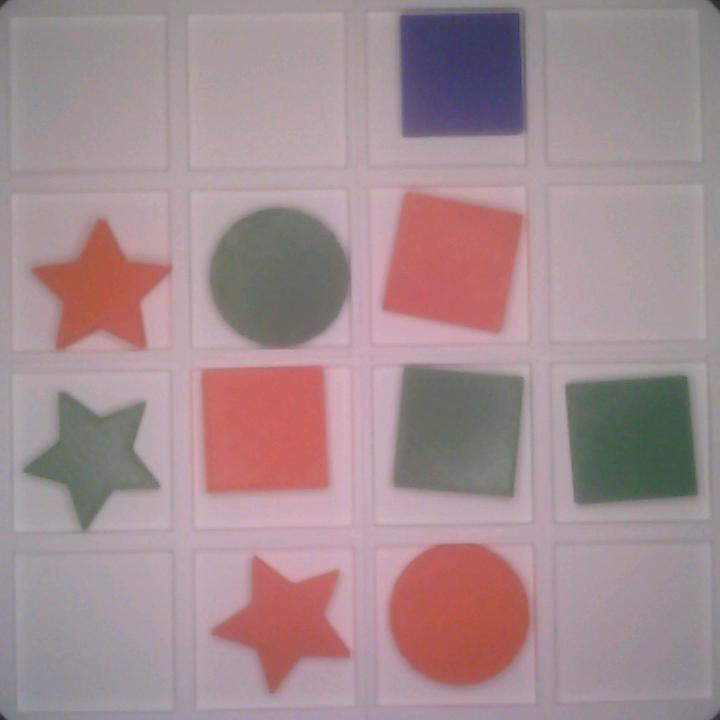Blue square: (400, 6, 528, 142)
Green circle: (201, 205, 348, 349)
Green square: (385, 362, 527, 498), (567, 368, 694, 501)
Green star: (23, 390, 160, 530)
Orange circle: (386, 541, 530, 690)
Orange square: (378, 190, 523, 333), (197, 360, 332, 494)
Orange star: (211, 552, 355, 698), (30, 216, 170, 350)
